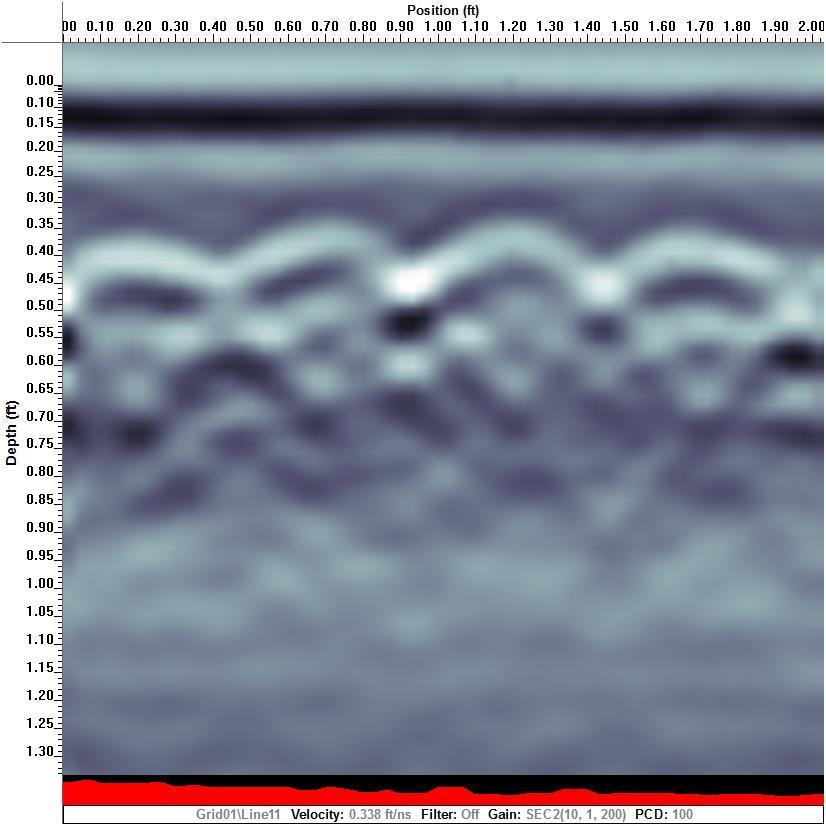hyperbola: (494, 219, 826, 513), (340, 221, 672, 515), (174, 222, 506, 516), (62, 224, 313, 479)
